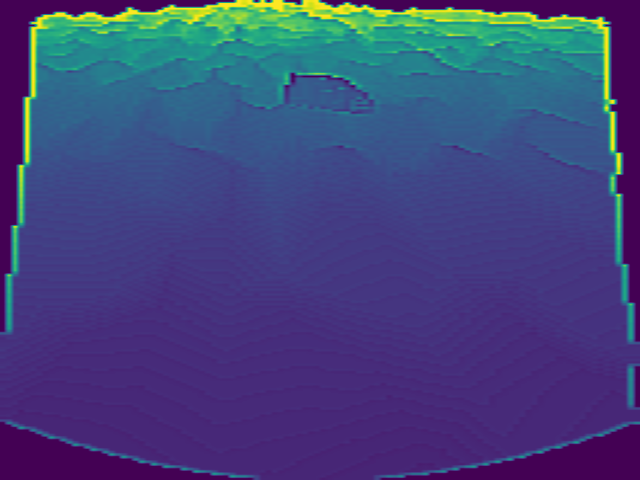car_0198: (280, 71, 375, 114)
